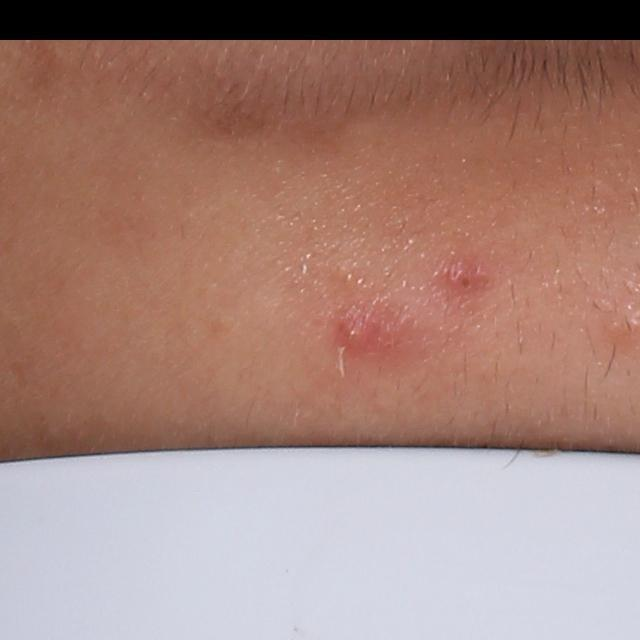papule: (448, 260, 476, 292)
